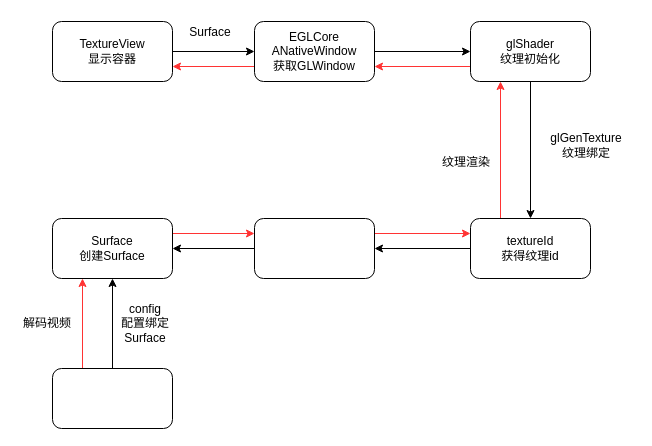
This 652x446 diagram has some shape labels left out. The box of each missing label's shape, as (x1, y1, x2, y2) in pixels:
MediaCodec 解码器: (52, 368, 172, 428)
SurfaceTexture 创建Texture: (254, 218, 374, 278)
